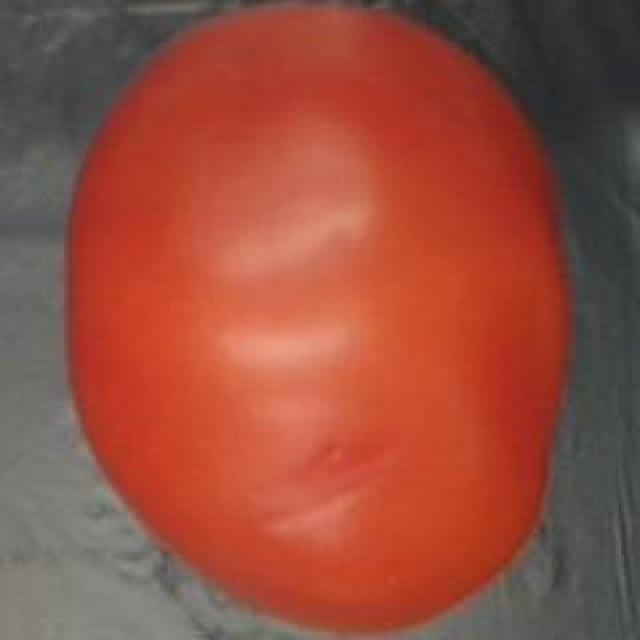ripe tomato: (53, 0, 576, 640)
